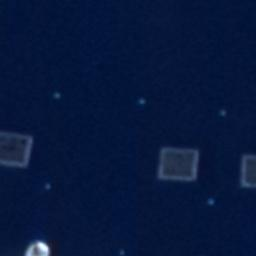square_cover: (156, 143, 205, 183), (1, 128, 40, 172), (239, 148, 256, 196)
